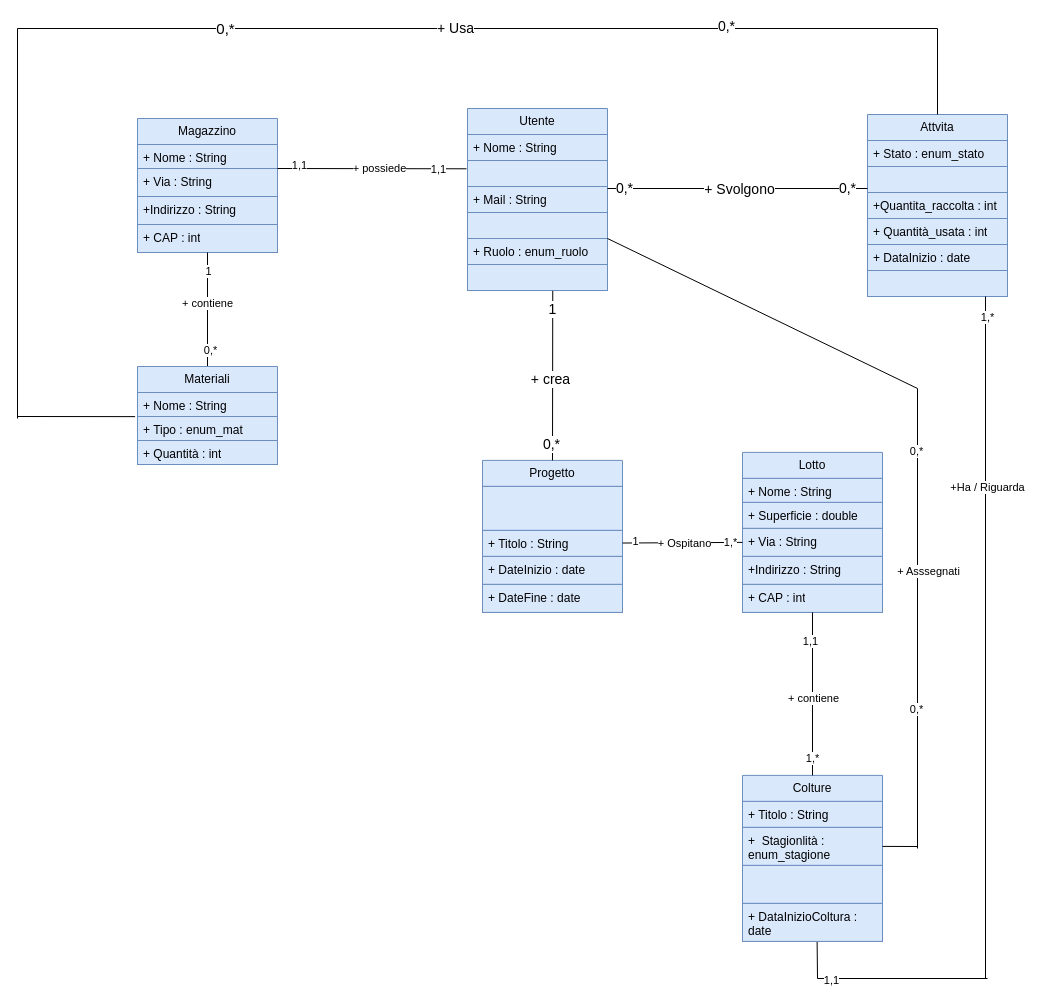
Some shapes in this 1041 by 1003 pixel diagram are drawn without their labels. Each missing label, with the centre of its shape:
"+ Cognome : String" goes at (537,173).
"+ DataFine : date" goes at (937,283).
"+ Password : String" goes at (537,277).
"+ Stagione : enum_stagione" goes at (552,507).
"+ tempo_maturazione : interval" goes at (812,883).
"+ username : String" goes at (537,225).
"+Tipo : enum_attivita" goes at (937,179).
